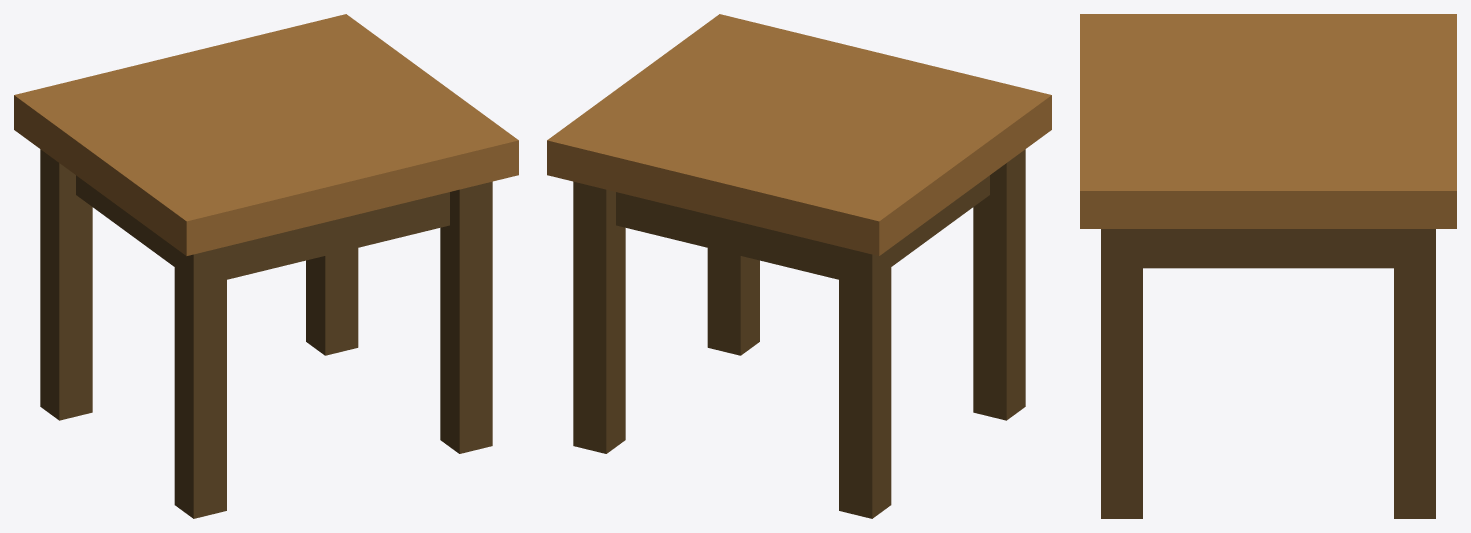
Rendered from table_01.fbx.
The picture shows the model from 3 angles, left to right: view 1: azimuth 30°, elevation 25°; view 2: azimuth 150°, elevation 25°; view 3: azimuth 270°, elevation 25°; orthographic projection. The views are drawn at different scales.
Visible parts, largest first — view 1: table_01; view 2: table_01; view 3: table_01.
Part boxes in pixels (box(x1,y1,x2,y2)): table_01: box(14, 14, 518, 518); table_01: box(547, 14, 1051, 518); table_01: box(1080, 14, 1456, 518).
Bounding box in the file's own units: 84.04 × 74.59 × 75.64.
